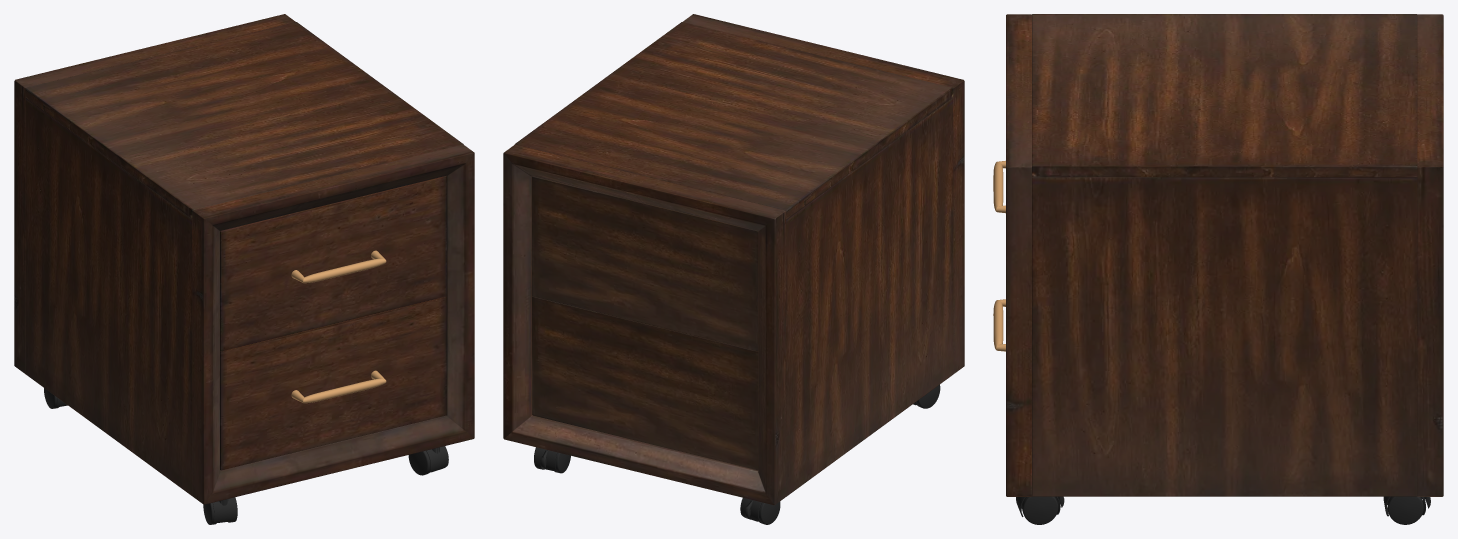
3 renders of one model, left to right at view 1: azimuth 30°, elevation 25°; view 2: azimuth 150°, elevation 25°; view 3: azimuth 270°, elevation 25°, orthographic. The views are drawn at different scales.
Visible parts, largest first — view 1: RootNode; view 2: RootNode; view 3: RootNode.
Boxes of the visible parts, left/top/right/bottom form: RootNode: left=14, top=14, right=474, bottom=524; RootNode: left=503, top=14, right=964, bottom=524; RootNode: left=993, top=14, right=1443, bottom=524.
Bounding box in the file's own units: 0.4019 × 0.455 × 0.5004.
Materials: 1 (1 with a texture image).
